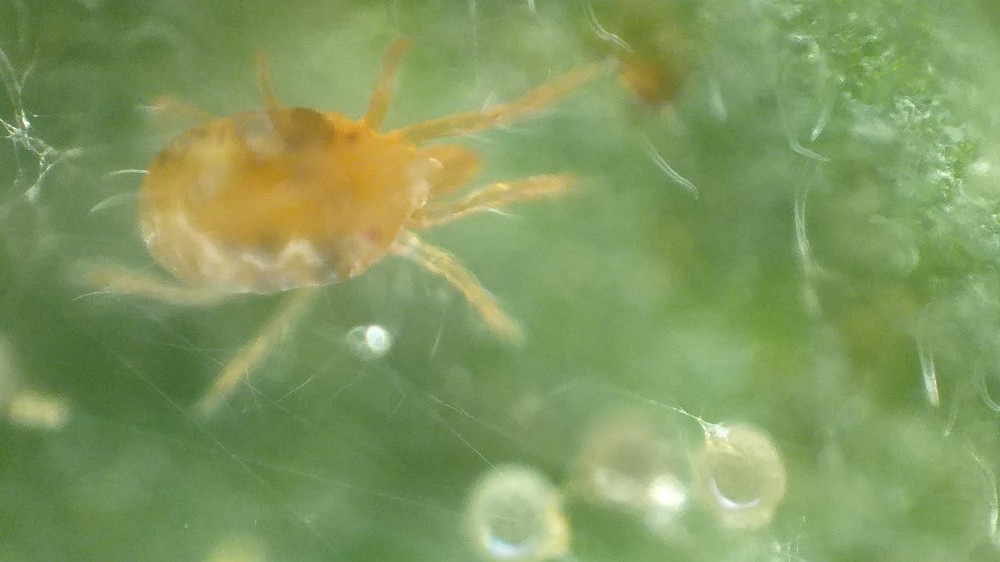Aracnido Rojo: (120, 44, 613, 401)
